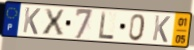0: (128, 13, 147, 42)
7: (74, 8, 94, 41)
K: (151, 14, 172, 44), (21, 6, 42, 36)
L: (98, 10, 116, 41)
X: (41, 8, 66, 37)
